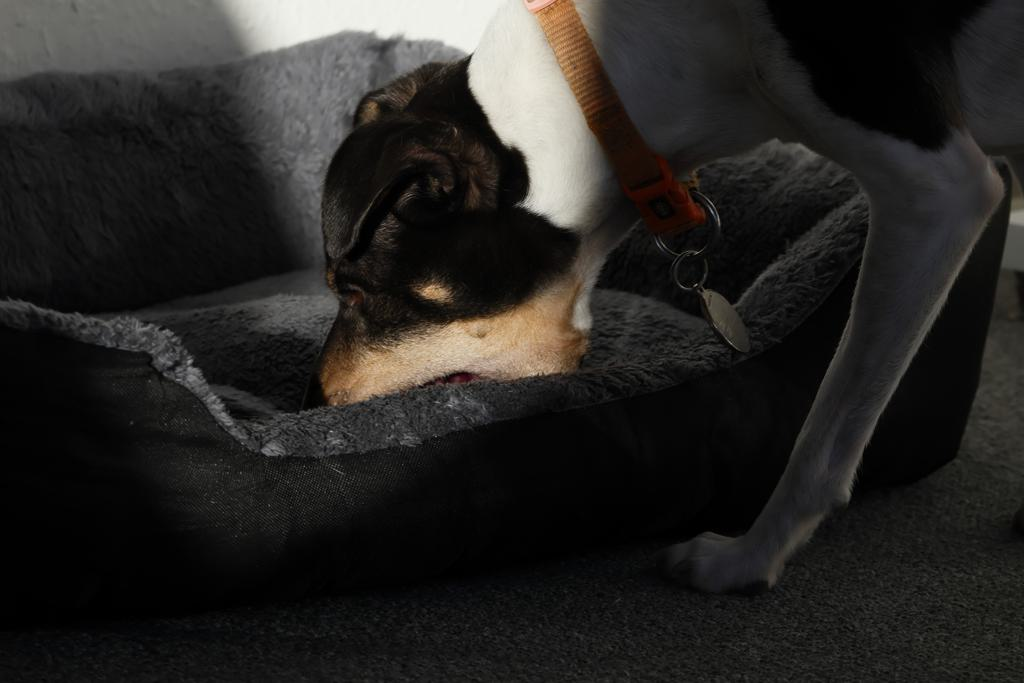Dog: (304, 0, 1024, 618)
